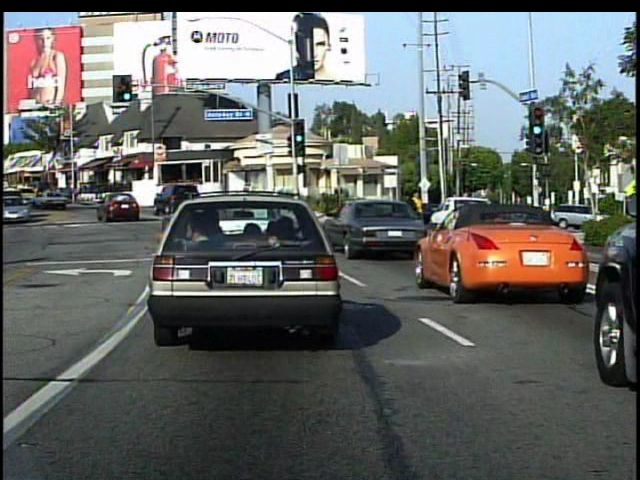person: (407, 189, 426, 229), (401, 192, 419, 231)
